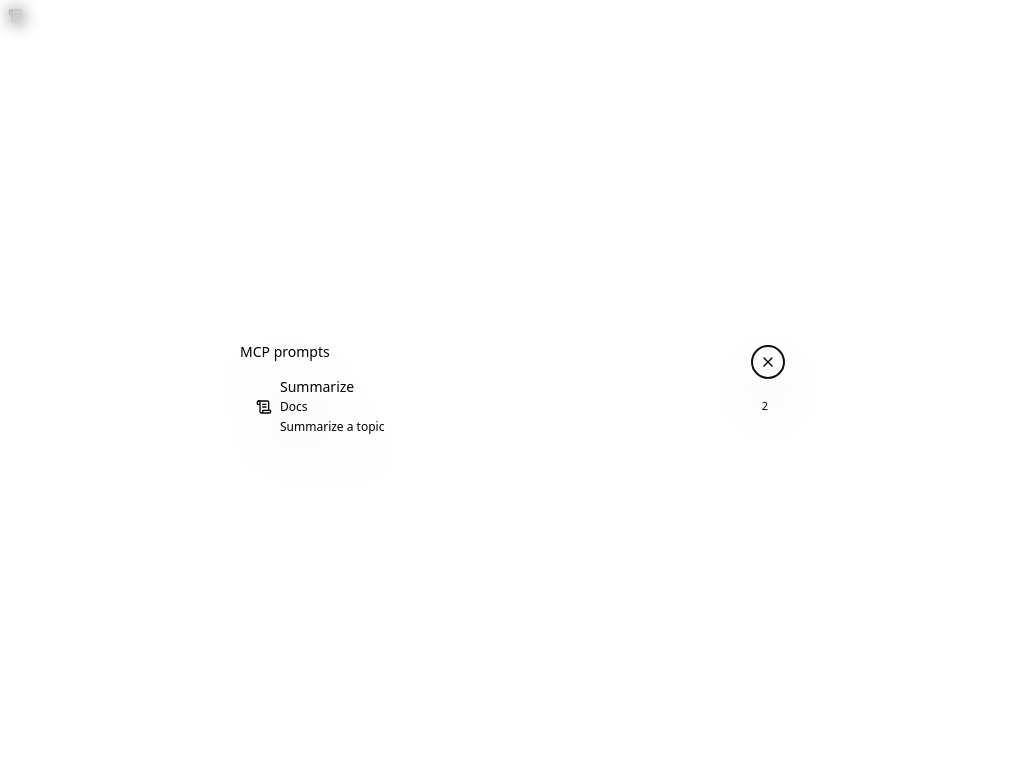
MCP picker workflows › reports prompt resolution http failures without losing arguments
Click the button "Summarize Docs Summarize a topic 2": (264, 407) [232,382,792,430]
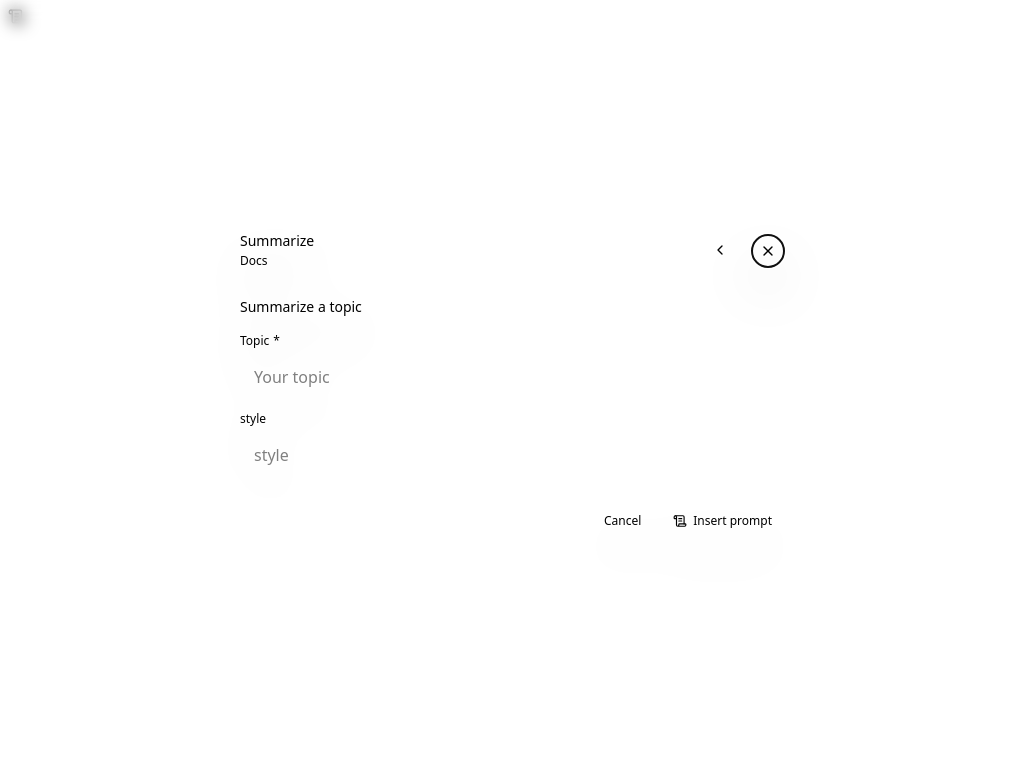
In the field labelled "Topic *": (512, 377) [240,355,784,399], type "keep me"
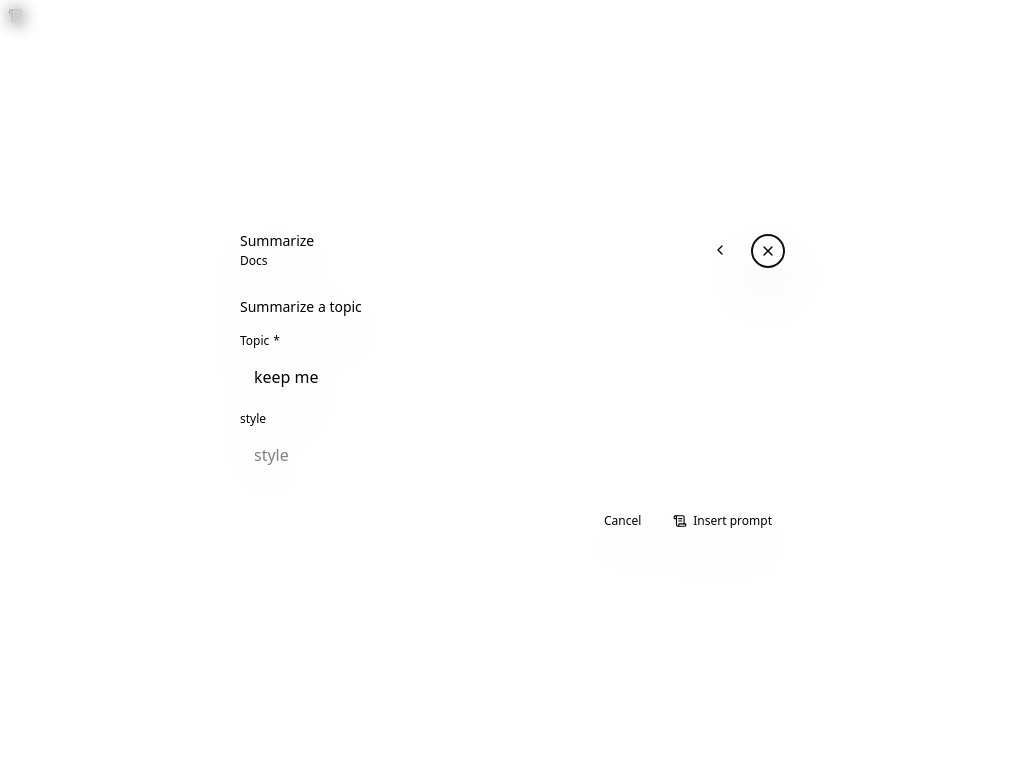
Submit the form labelled "Summarize a topic Topic * style Cancel Insert prompt", box [224,281,800,549]
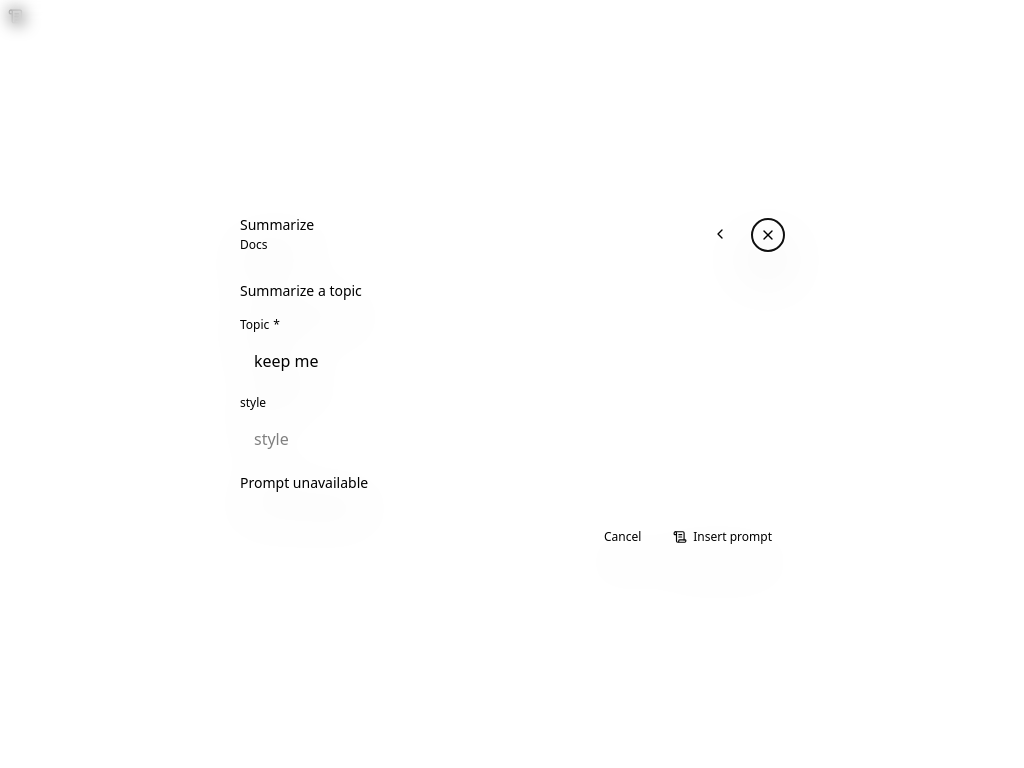
Check: the message "Prompt unavailable" is shown, box [240,473,368,492]
